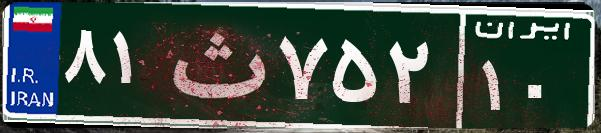0: (525, 38, 570, 115)
1: (475, 38, 525, 113), (110, 28, 158, 105)
2: (385, 28, 445, 110)
5: (330, 28, 385, 110)
7: (273, 28, 330, 110)
8: (57, 26, 110, 107)
ث: (158, 15, 273, 115)
